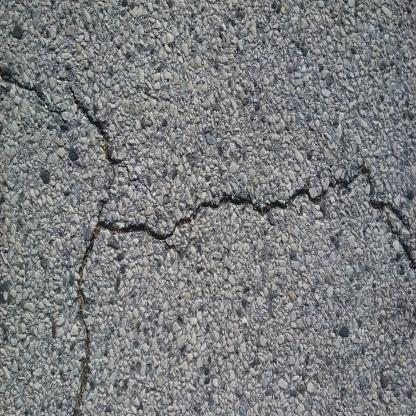Cracks: (92, 147, 416, 268), (62, 73, 118, 416)
